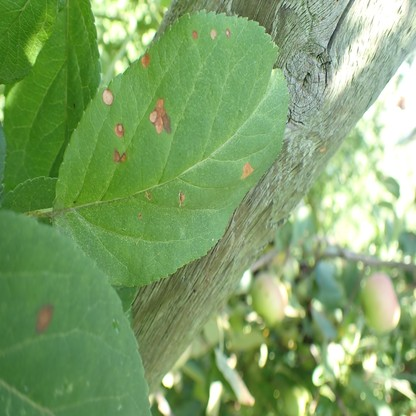frogeye_leaf_spot: (150, 96, 172, 136), (35, 305, 55, 334), (113, 149, 127, 162), (241, 162, 253, 177), (140, 52, 151, 68), (103, 88, 113, 105), (115, 122, 125, 135), (179, 191, 184, 208), (210, 28, 216, 40), (192, 29, 197, 36), (225, 27, 229, 35)
